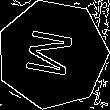M_E: (23, 27, 82, 82)
